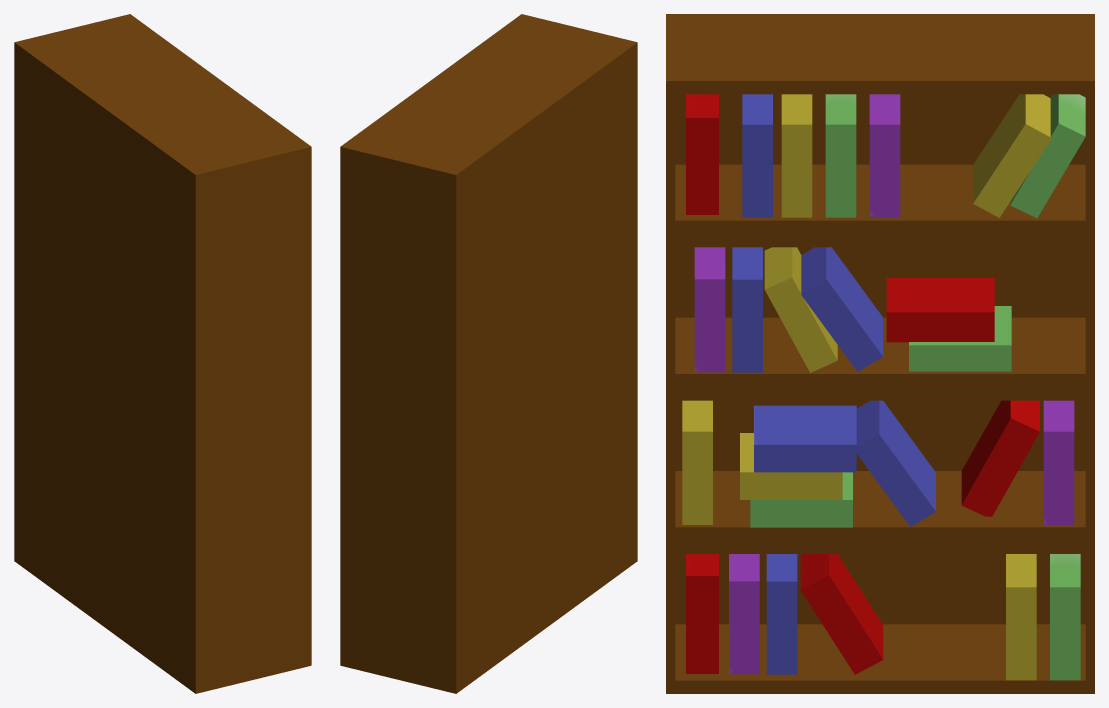
File: BookShelf.fbx
The picture shows the model from 3 angles, left to right: view 1: azimuth 30°, elevation 25°; view 2: azimuth 150°, elevation 25°; view 3: azimuth 270°, elevation 25°; orthographic projection. The views are drawn at different scales.
Visible parts, largest first — view 1: BookShelf; view 2: BookShelf; view 3: BookShelf, Cube.020.
Part boxes in pixels (x1,y1,x2,y2): BookShelf: (14, 14, 311, 693); BookShelf: (340, 14, 637, 693); BookShelf: (666, 14, 1094, 693); Cube.020: (682, 94, 1085, 680).
Size of the model in its own units: 52.61 by 223 by 142.
